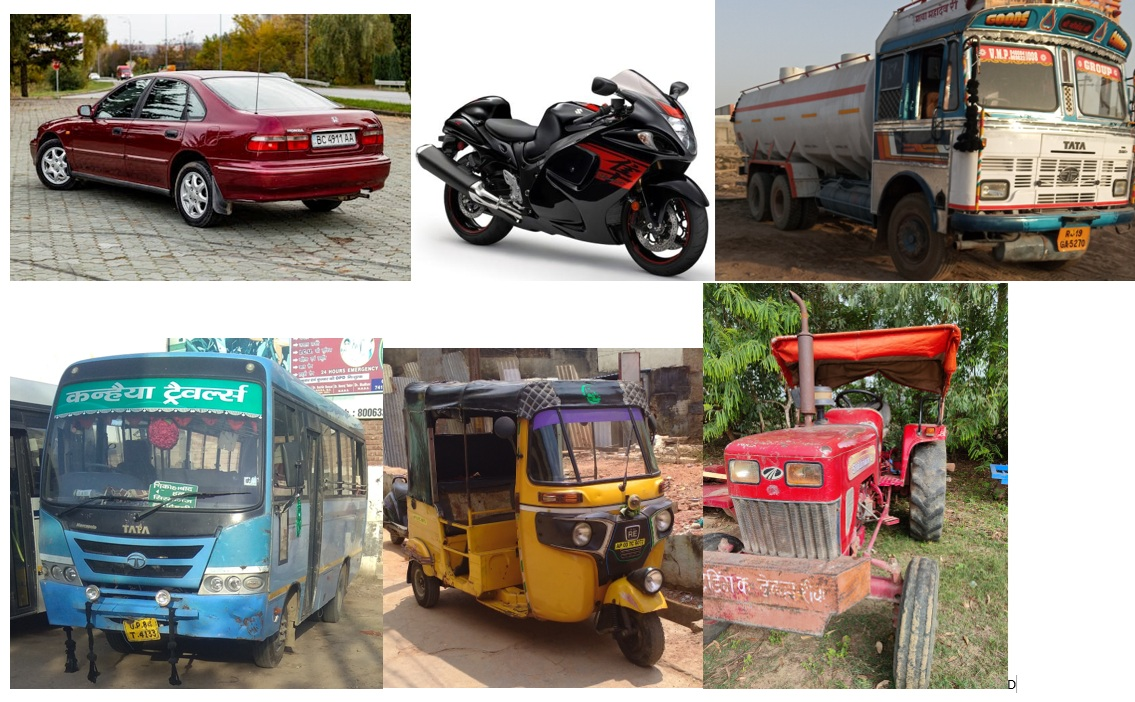auto: (403, 373, 677, 673)
bike: (418, 66, 712, 283)
bus: (34, 348, 367, 668)
car: (26, 59, 393, 231)
number_plate: (123, 615, 165, 643), (1057, 219, 1092, 252), (308, 125, 359, 144), (613, 535, 651, 549)
tractor: (704, 283, 948, 688)
truck: (726, 1, 1135, 284)
